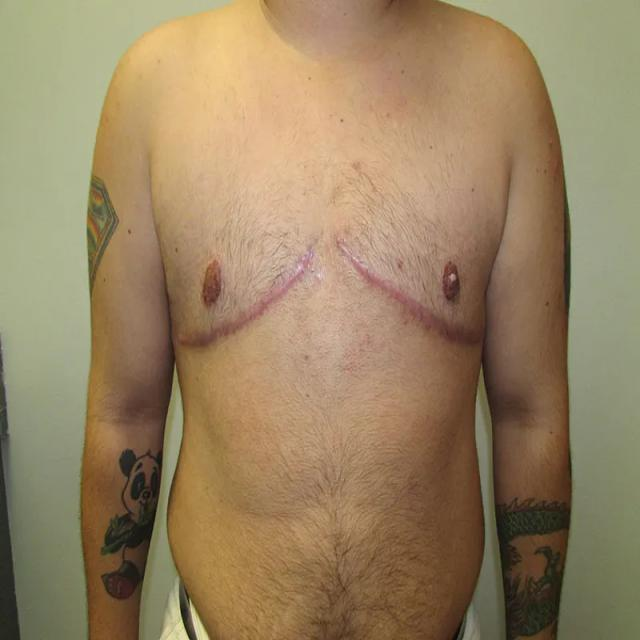Seno herido: (328, 198, 498, 372), (161, 198, 322, 372)
